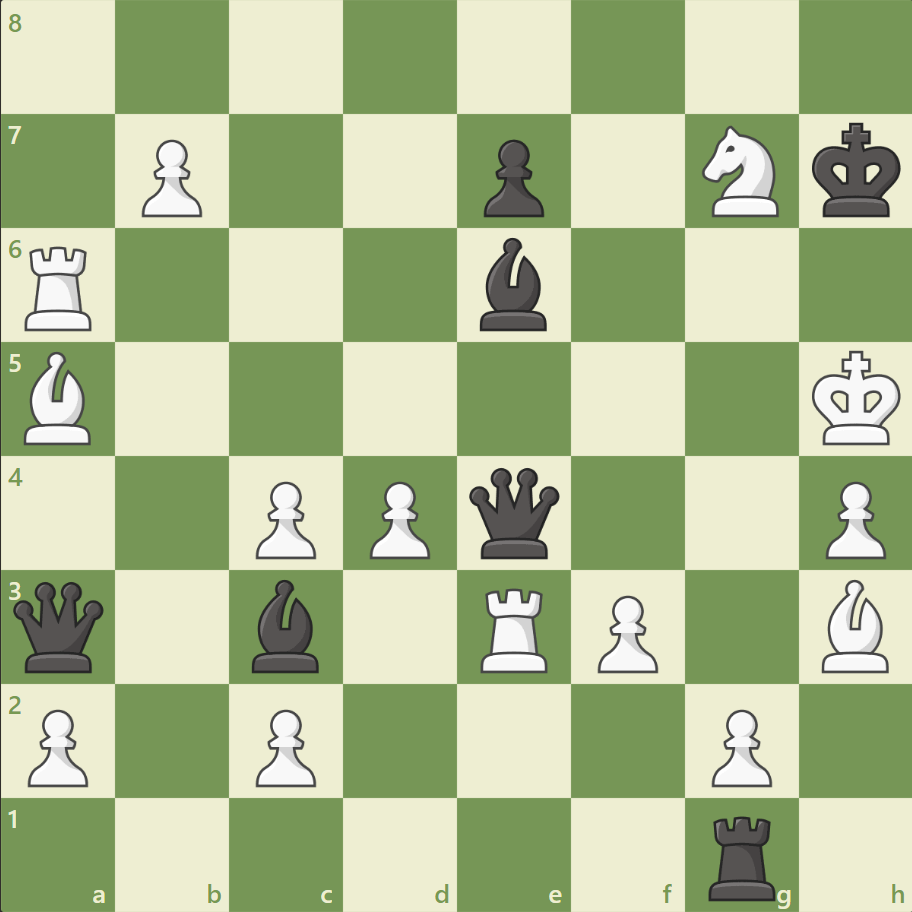B: (17, 347, 101, 449), (812, 574, 896, 676)
K: (806, 344, 906, 452)
N: (692, 121, 789, 223)
P: (133, 132, 208, 223), (247, 473, 322, 564), (20, 700, 95, 791), (247, 700, 322, 791), (701, 700, 776, 791), (361, 473, 435, 564), (815, 473, 889, 564), (588, 586, 662, 677)
R: (19, 239, 102, 336), (473, 579, 556, 676)
b: (471, 233, 555, 336), (244, 574, 328, 676)
k: (806, 117, 906, 225)
p: (474, 132, 549, 223)
q: (10, 576, 109, 676), (464, 463, 563, 562)
r: (700, 806, 783, 904)
